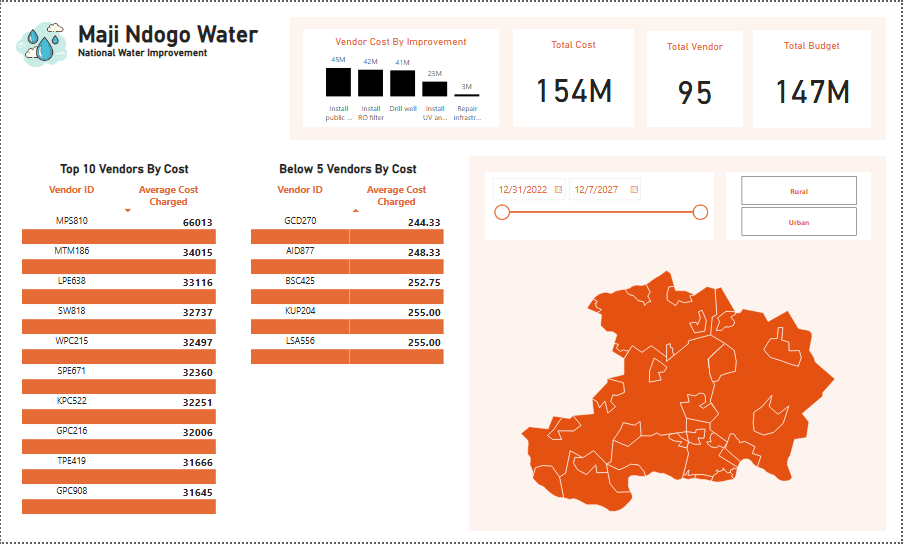

The dashboard page shown, as its layout file describes it:
{"tool":"powerbi","page":{"name":"Vendor's Page","canvas":[1500,901],"ordinal":2},"visuals":[{"type":"shape","box":[481.7,25,993.3,205],"z":0},{"type":"shape","box":[780,256.7,695,625],"z":1000},{"type":"textbox","box":[123.3,25,335,116.7],"z":2000},{"type":"cardVisual","title":"Total Budget","fields":{"Data":["Sum(project_progress.budgeted_improvement_cost)"]},"box":[1253.3,46.7,196.7,163.3],"z":3000},{"type":"image","box":[0,13.3,135,115],"z":4000},{"type":"clusteredColumnChart","title":"Vendor Cost By Improvement","fields":{"Category":["project_progress.aggregated_improvements"],"Y":["Sum(project_progress.cost)"]},"box":[503.3,45,326.7,163.3],"z":5000},{"type":"cardVisual","title":"Total Vendor","fields":{"Data":["Count(project_progress.assigned_vendor)"]},"box":[1076.7,48.3,160,160],"z":6000},{"type":"pivotTable","title":"Top 10 Vendors By Cost","fields":{"Values":["Sum(project_progress.cost)"],"Rows":["project_progress.assigned_vendor"]},"box":[25,256.7,361.7,625],"z":7000},{"type":"pivotTable","title":"Below 10 Vendors By Cost","fields":{"Values":["Avg(project_progress.cost)"],"Rows":["project_progress.assigned_vendor"]},"box":[406.7,256.7,343.3,645],"z":8000},{"type":"cardVisual","title":"Total Cost","fields":{"Data":["Sum(project_progress.cost)"]},"box":[853.3,45,201.7,163.3],"z":9000},{"type":"slicer","fields":{"Values":["date.Date"]},"box":[806.7,283.3,380,113.3],"z":10000},{"type":"slicer","fields":{"Values":["location.location_type"]},"box":[1208.3,283.3,241.7,113.3],"z":11000},{"type":"shapeMap","fields":{"Value":["project_progress.pct_project_complete"],"Category":["location.town_name"]},"box":[806.7,415,643.3,466.7],"z":12000}]}

Visuals, with their boxes in screenshot pixels (x1, y1, x2, y2), scaled from the page's 1500x901 canvas onto the 905x545 screenshot:
shape: region(291, 15, 890, 139)
shape: region(471, 155, 890, 533)
textbox: region(74, 15, 277, 86)
"Total Budget" cardVisual: region(756, 28, 875, 127)
image: region(0, 8, 81, 78)
"Vendor Cost By Improvement" clusteredColumnChart: region(304, 27, 501, 126)
"Total Vendor" cardVisual: region(650, 29, 746, 126)
"Top 10 Vendors By Cost" pivotTable: region(15, 155, 233, 533)
"Below 10 Vendors By Cost" pivotTable: region(245, 155, 453, 544)
"Total Cost" cardVisual: region(515, 27, 637, 126)
slicer - date.Date: region(487, 171, 716, 240)
slicer - location.location_type: region(729, 171, 875, 240)
shapeMap - project_progress.pct_project_complete x location.town_name: region(487, 251, 875, 533)
